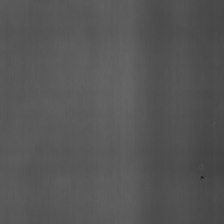inclusion: (198, 172, 206, 184)
